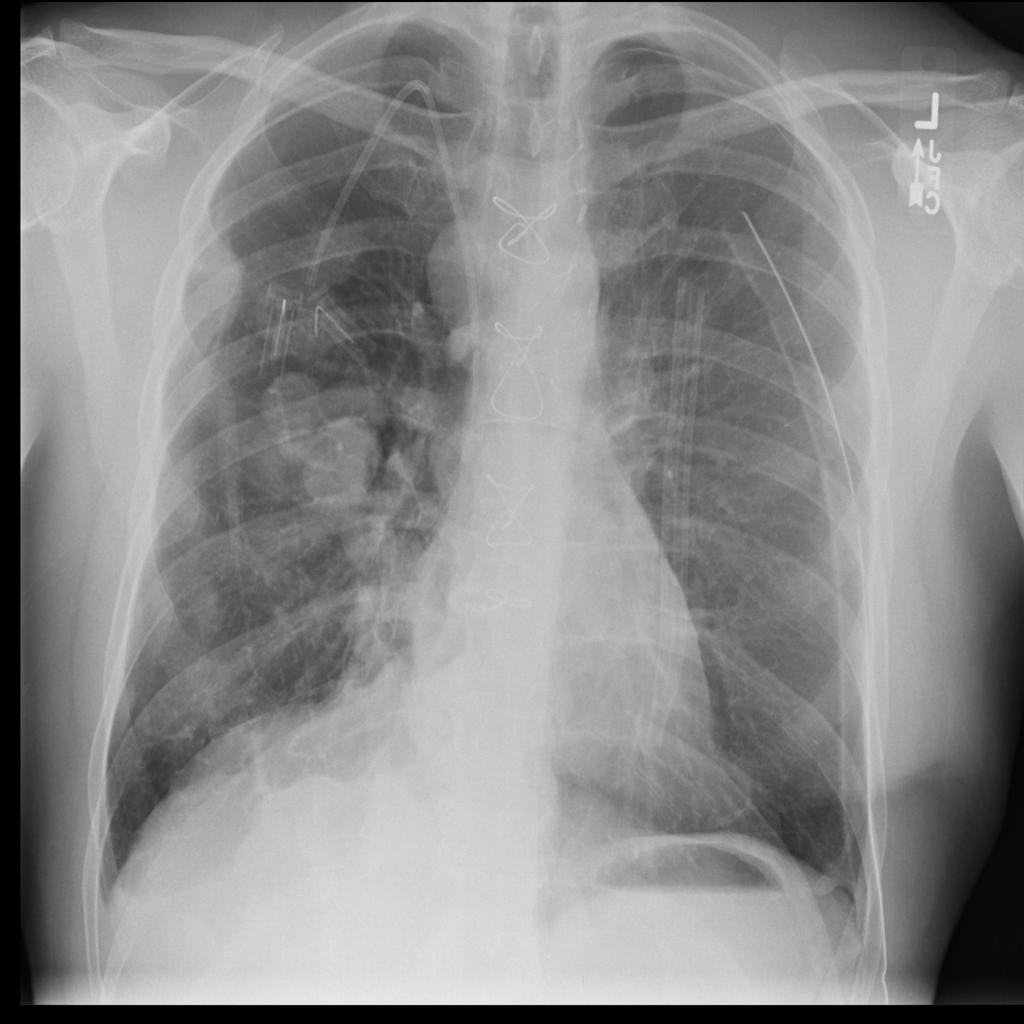nodule: (244, 355, 375, 513)
